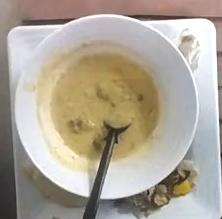soup: (35, 42, 157, 162)
